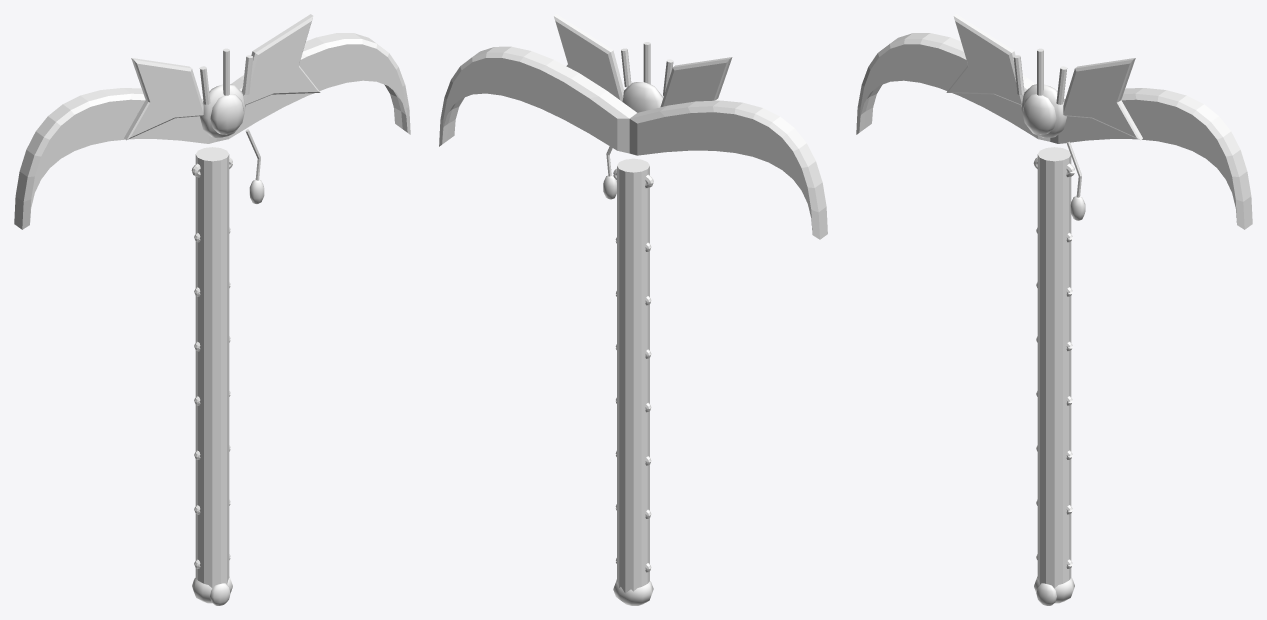
The model's file is pickaxe.obj.
3 views of the same model, side by side, from view 1: azimuth 30°, elevation 25°; view 2: azimuth 150°, elevation 25°; view 3: azimuth 330°, elevation 25° (orthographic).
Bounding box in the file's own units: 0.6667 × 0.9375 × 0.0854.
